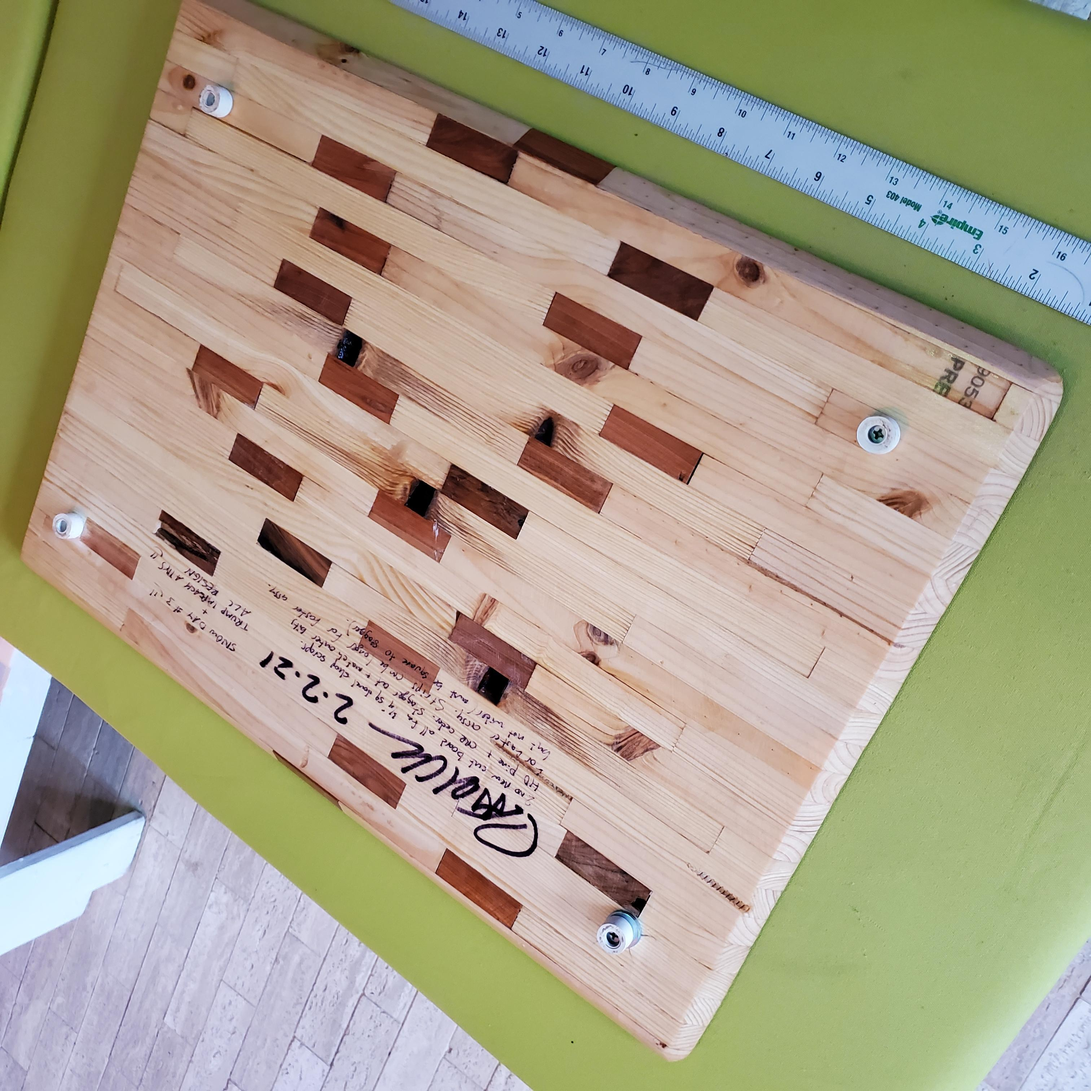gloved_hand: (30, 4, 1091, 1079)
